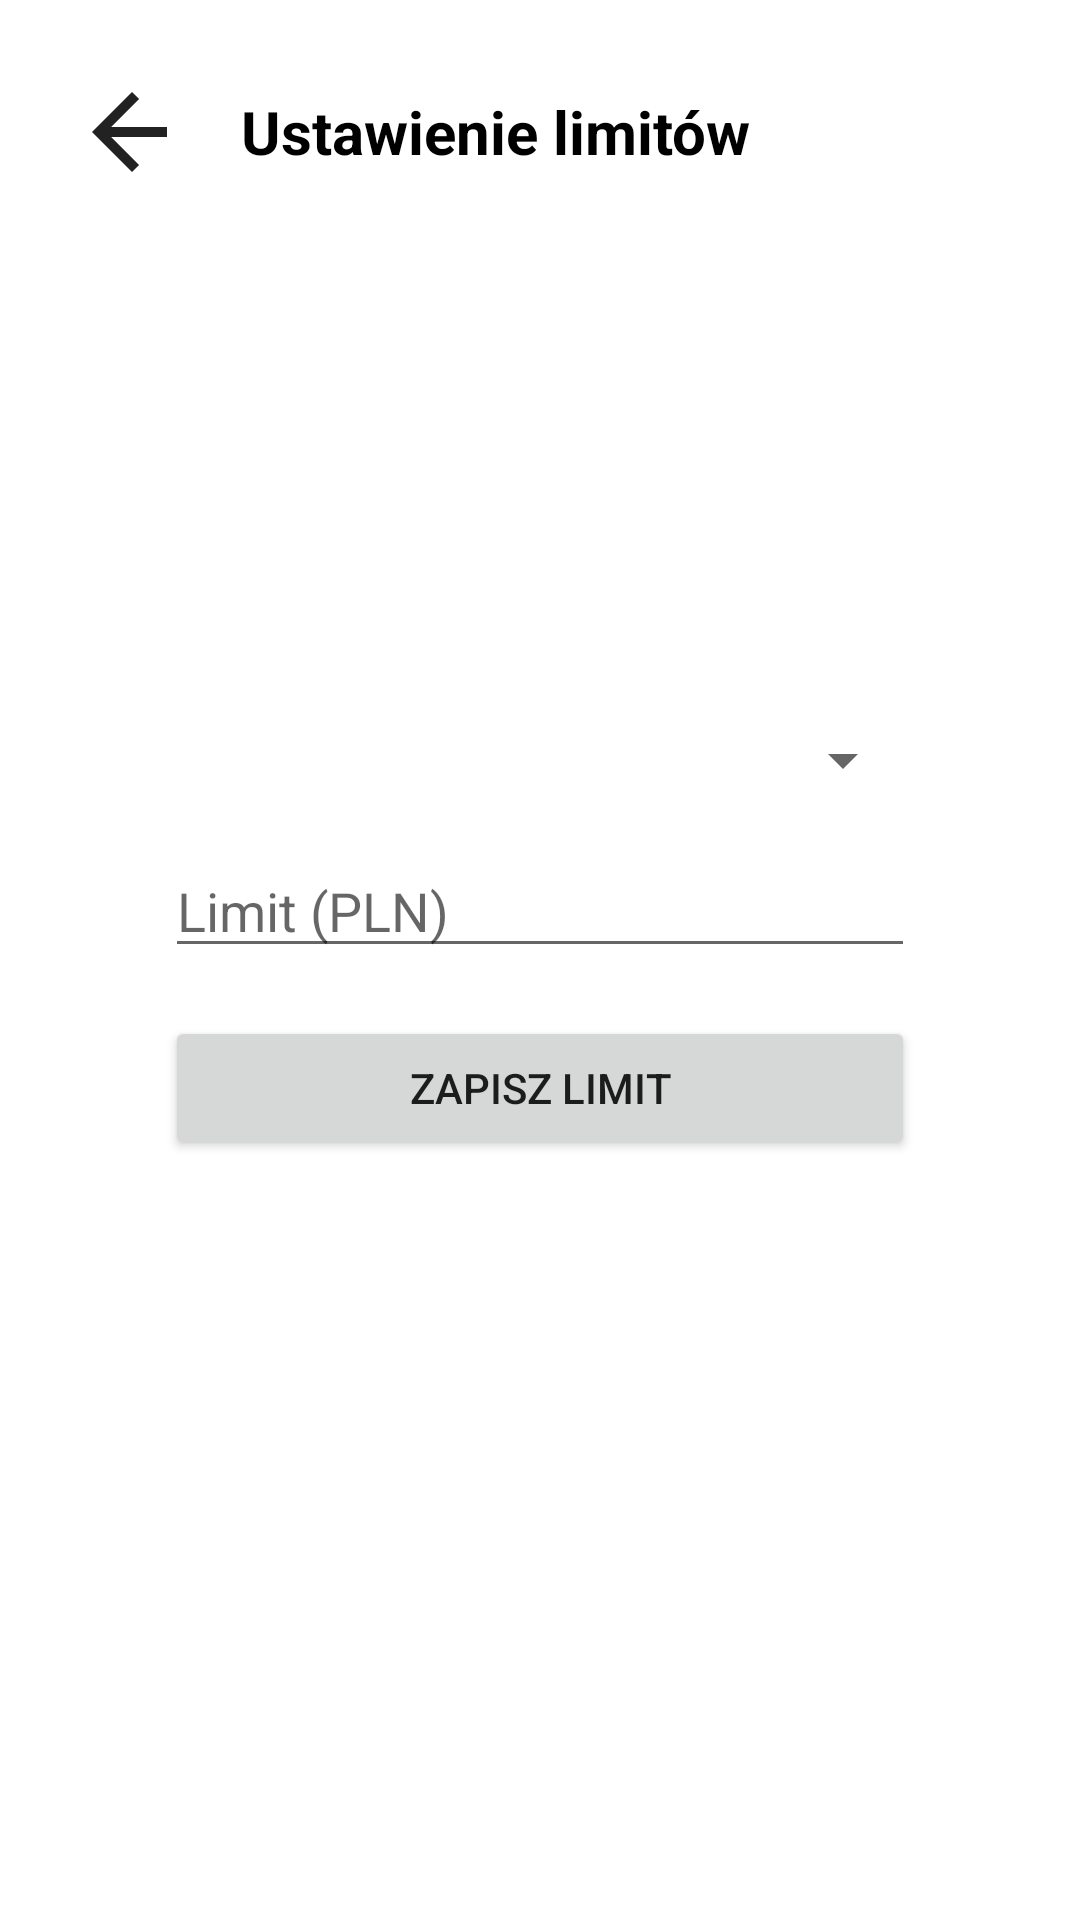

Where icons sit on this 1080x1920 app screen, as (x1, y1, x2, y2):
Wróć: (92, 92, 167, 172)
